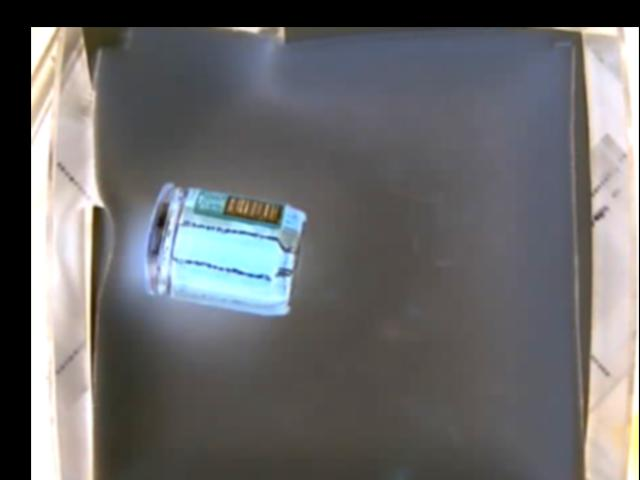Bottle: (139, 182, 302, 314)
